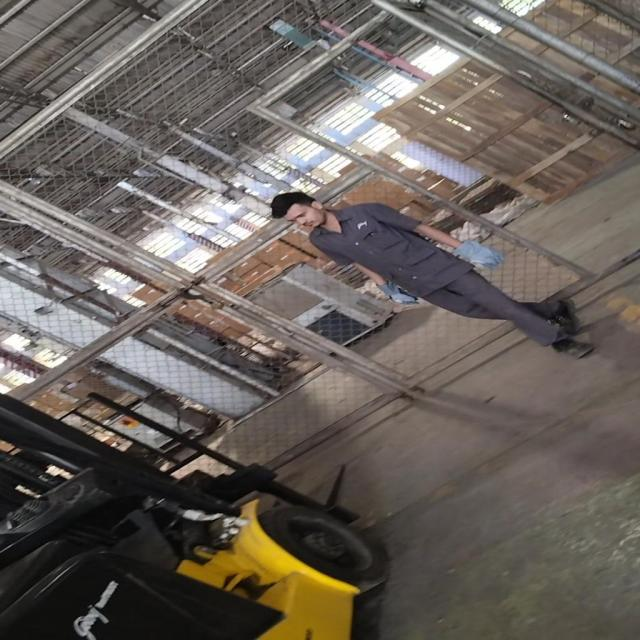Gloves-Detection: (445, 238, 505, 271), (371, 283, 418, 307)
